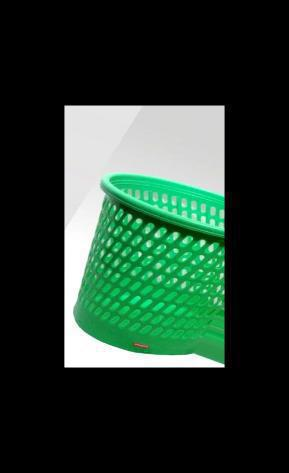Bote de Basura: (76, 171, 224, 359)
